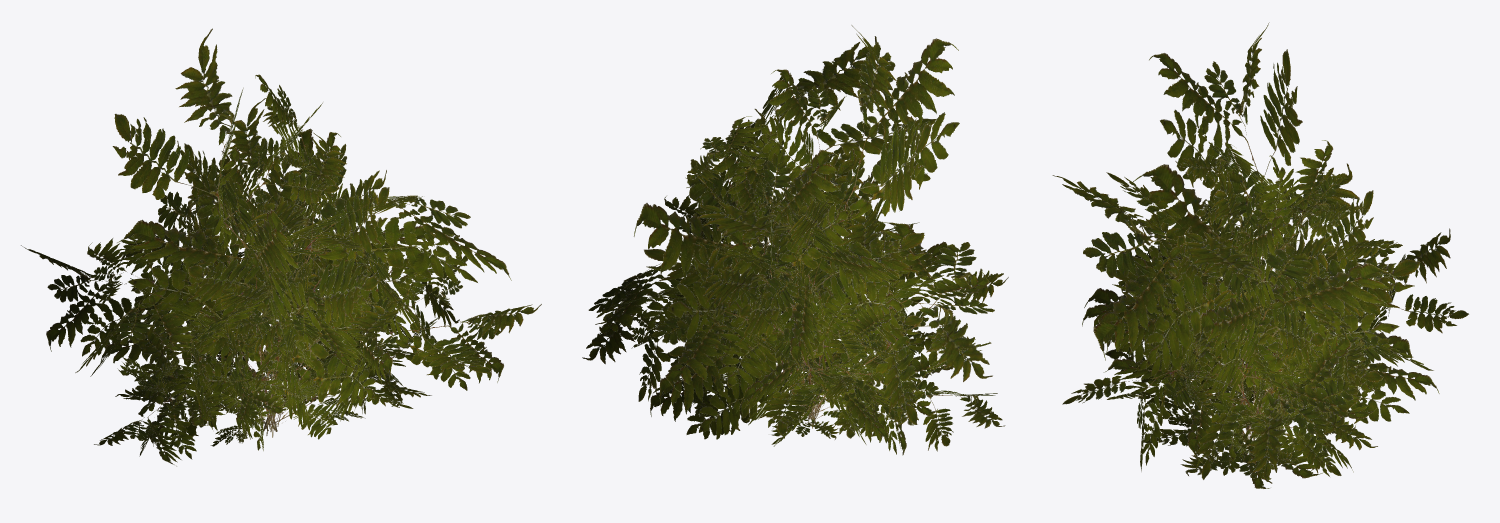
Rendered from Bush5.fbx.
3 renders of one model, left to right at view 1: azimuth 30°, elevation 25°; view 2: azimuth 150°, elevation 25°; view 3: azimuth 270°, elevation 25°, orthographic. The views are drawn at different scales.
Visible parts, largest first — view 1: Bush1; view 2: Bush1; view 3: Bush1.
Boxes of the visible parts, bbox=[...] form: Bush1: bbox=[21, 28, 541, 466]; Bush1: bbox=[582, 25, 1008, 455]; Bush1: bbox=[1052, 22, 1468, 488].
Size of the model in its own units: 139 by 157 by 138.
